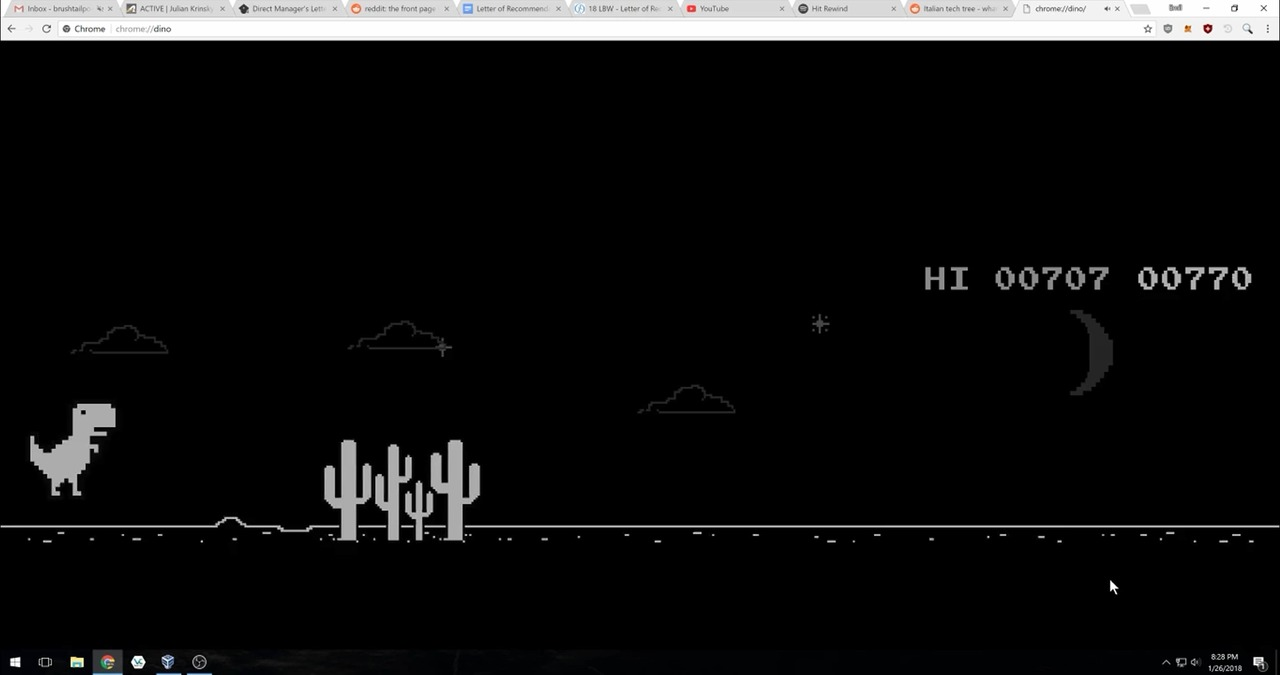cactus: (319, 439, 486, 543)
dinosaur: (29, 402, 120, 500)
